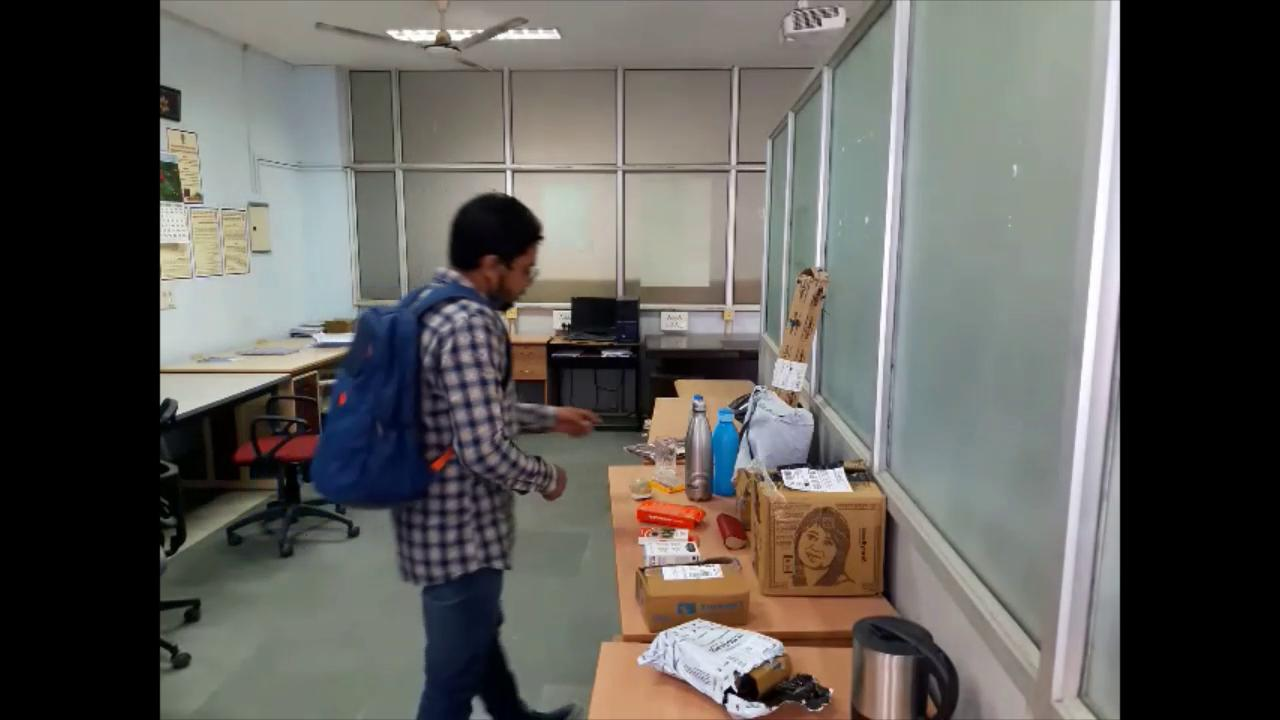Normal: (314, 186, 478, 621)
